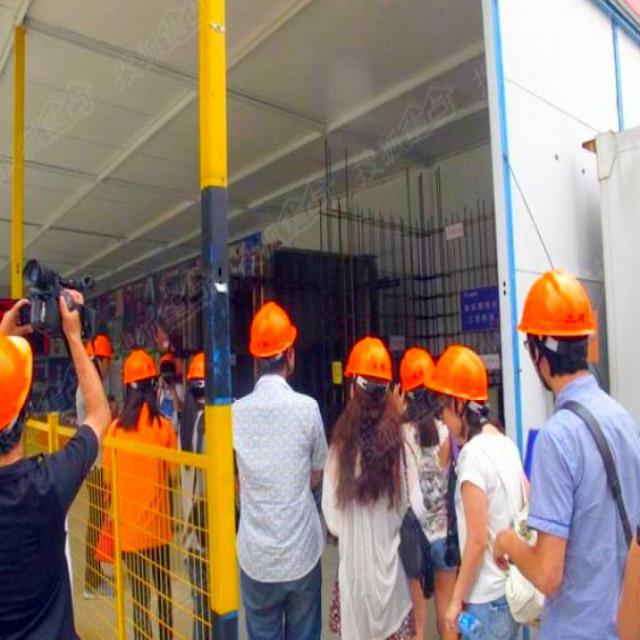helmet: (518, 252, 600, 396), (426, 334, 491, 441), (338, 333, 393, 421), (247, 288, 297, 379), (121, 339, 158, 412), (181, 348, 214, 412)
